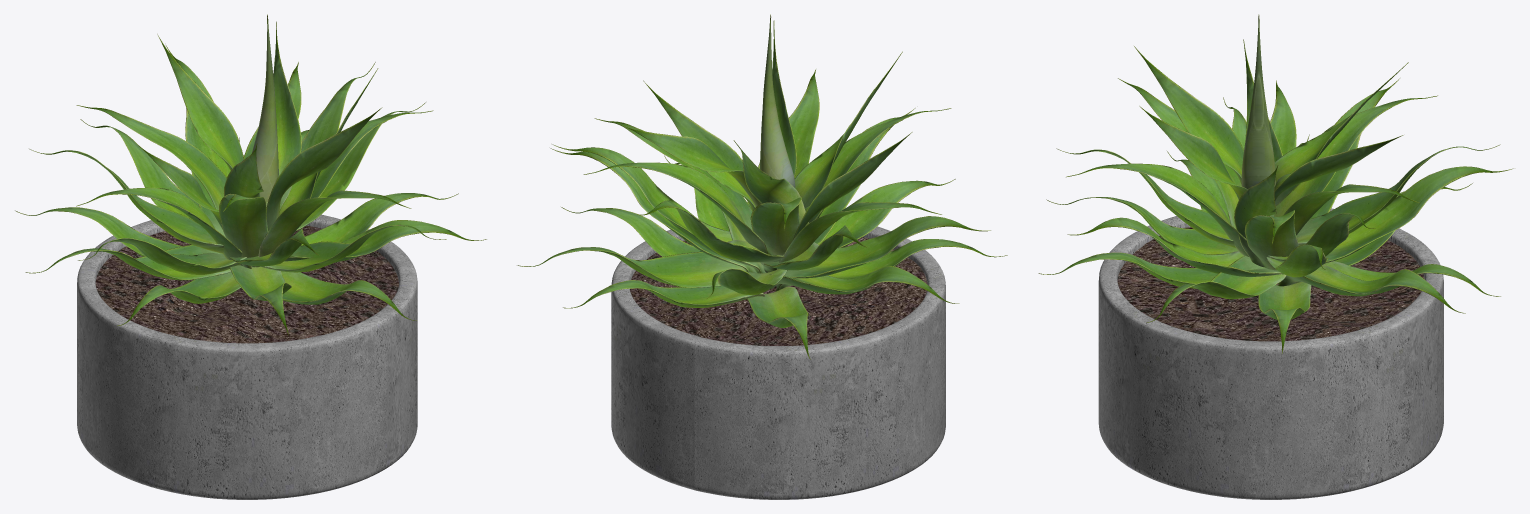
Rendered from plant_10.glb.
3 views of the same model, side by side, from view 1: azimuth 30°, elevation 25°; view 2: azimuth 150°, elevation 25°; view 3: azimuth 270°, elevation 25° (orthographic). The views are drawn at different scales.
Visible parts, largest first — view 1: Plants_VOL01_10; view 2: Plants_VOL01_10; view 3: Plants_VOL01_10.
Boxes of the visible parts, <box> form: Plants_VOL01_10: <box>15,14,486,499</box>; Plants_VOL01_10: <box>517,14,1007,499</box>; Plants_VOL01_10: <box>1038,14,1513,499</box>.
Size of the model in its own units: 0.4073 by 0.3855 by 0.3959.
Materials: 4 (4 with a texture image).
